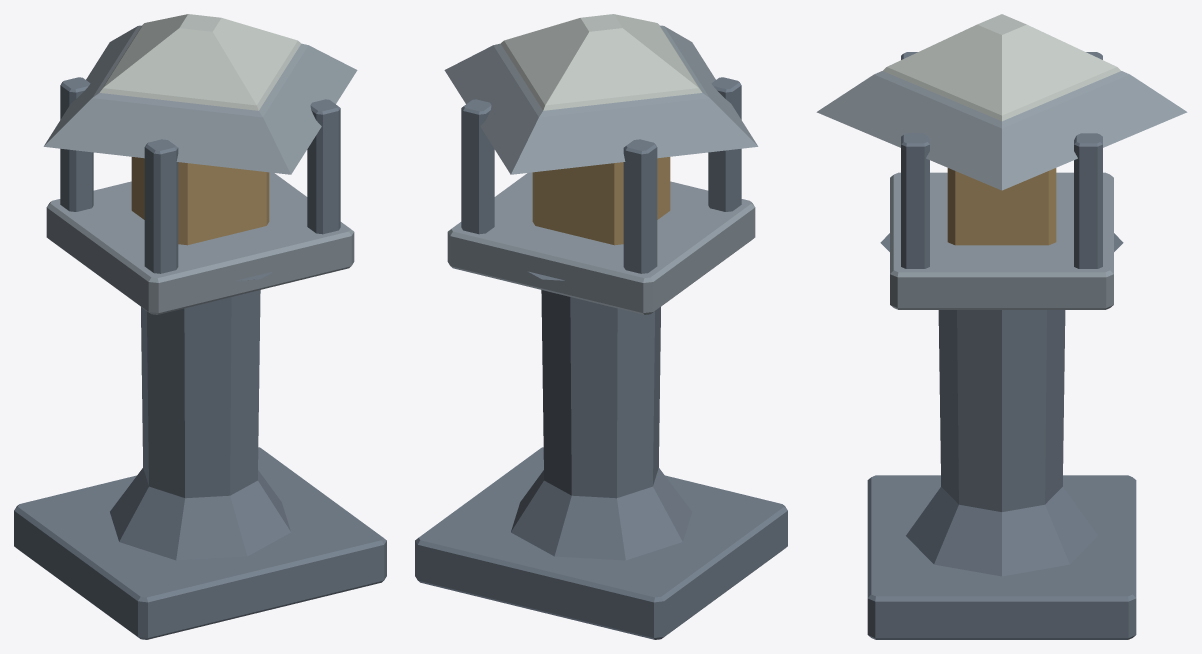
Rendered from fitted-lantern.glb.
3 renders of one model, left to right at view 1: azimuth 30°, elevation 25°; view 2: azimuth 150°, elevation 25°; view 3: azimuth 270°, elevation 25°, orthographic. The views are drawn at different scales.
Visible parts, largest first — view 1: fitted-lantern__body; view 2: fitted-lantern__body; view 3: fitted-lantern__body.
Part boxes in pixels (x1,y1,x2,y2): fitted-lantern__body: (14,14,386,639); fitted-lantern__body: (415,14,787,639); fitted-lantern__body: (816,14,1187,639).
Size of the model in its own units: 0.58 by 0.956 by 0.58.
